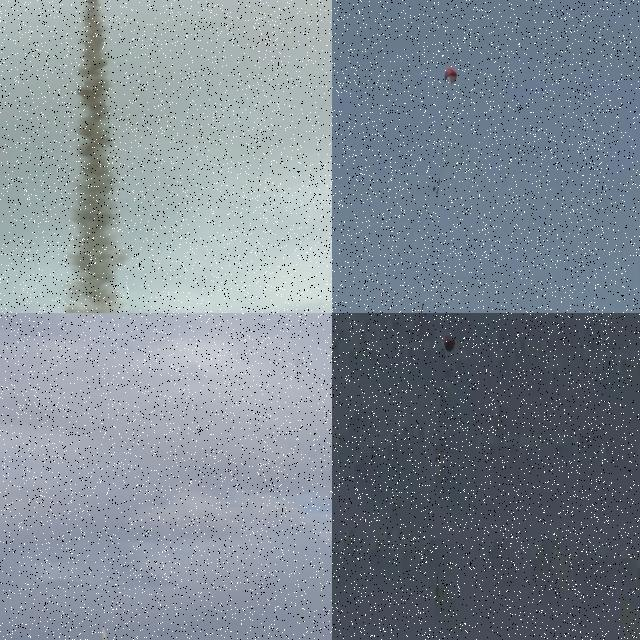Rocket: (435, 578, 440, 596), (419, 302, 423, 313)
